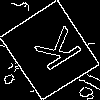K: (24, 25, 84, 78)
